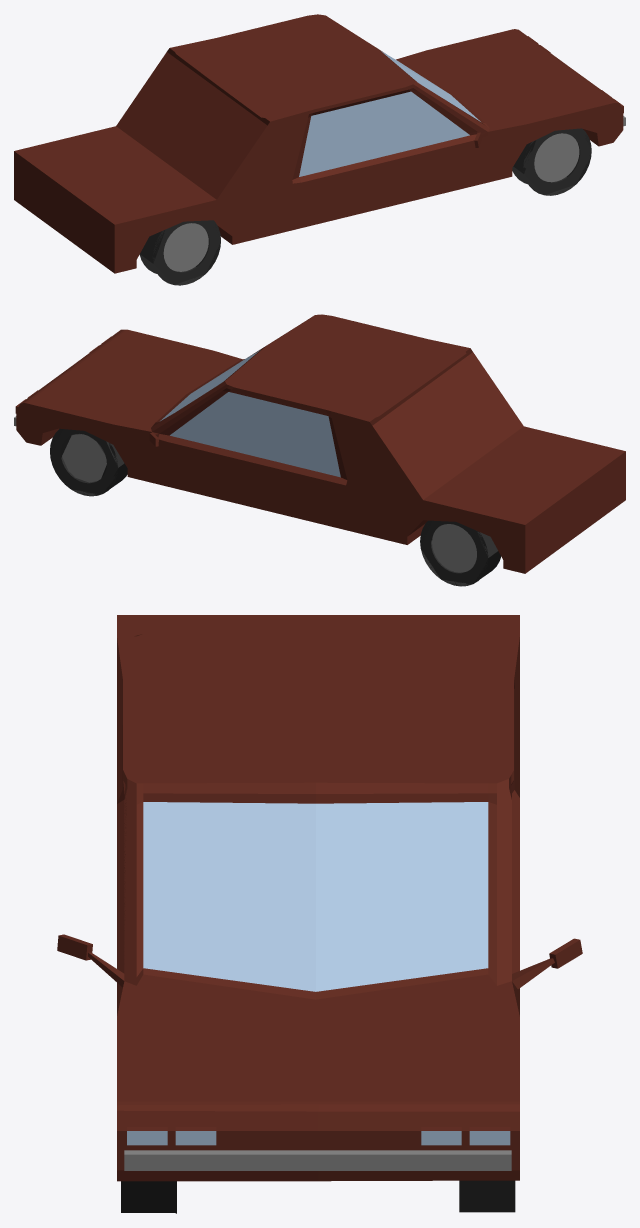
File: Car.fbx
3 views of the same model, one above another, from view 1: azimuth 30°, elevation 25°; view 2: azimuth 150°, elevation 25°; view 3: azimuth 270°, elevation 25° (orthographic). The views are drawn at different scales.
Parts seen in each view (by area): view 1: Cube; view 2: Cube; view 3: Cube.
Boxes of the visible parts, x1,y1,x2,y2 form: Cube: (14, 14, 625, 285); Cube: (14, 314, 625, 586); Cube: (57, 615, 582, 1213).
Bounding box in the file's own units: 874 × 238 × 388.
